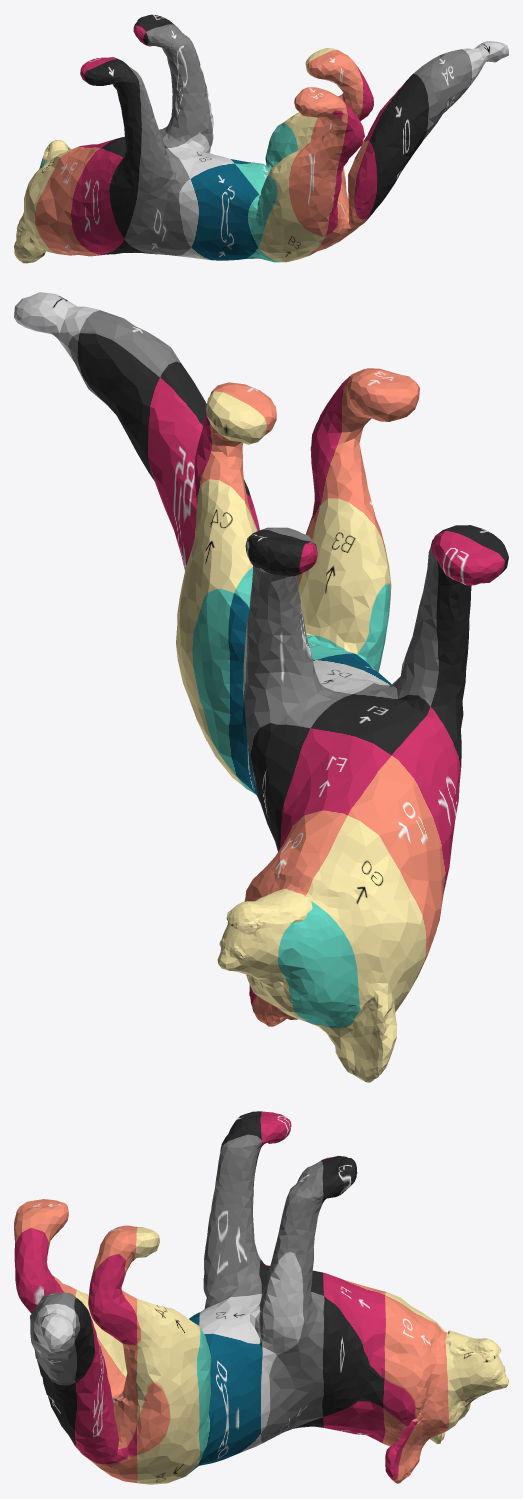
Rendered from fox_02-fox_02.obj.
3 renders of one model, top to bottom at view 1: azimuth 30°, elevation 25°; view 2: azimuth 150°, elevation 25°; view 3: azimuth 270°, elevation 25°, orthographic. The views are drawn at different scales.
Visible parts, largest first — view 1: fox_02-fox_02_export; view 2: fox_02-fox_02_export; view 3: fox_02-fox_02_export.
Part boxes in pixels (x1,y1,x2,y2): fox_02-fox_02_export: [14, 14, 508, 263]; fox_02-fox_02_export: [14, 292, 508, 1082]; fox_02-fox_02_export: [14, 1111, 508, 1484].
Size of the model in its own units: 0.8388 by 0.575 by 0.768.
